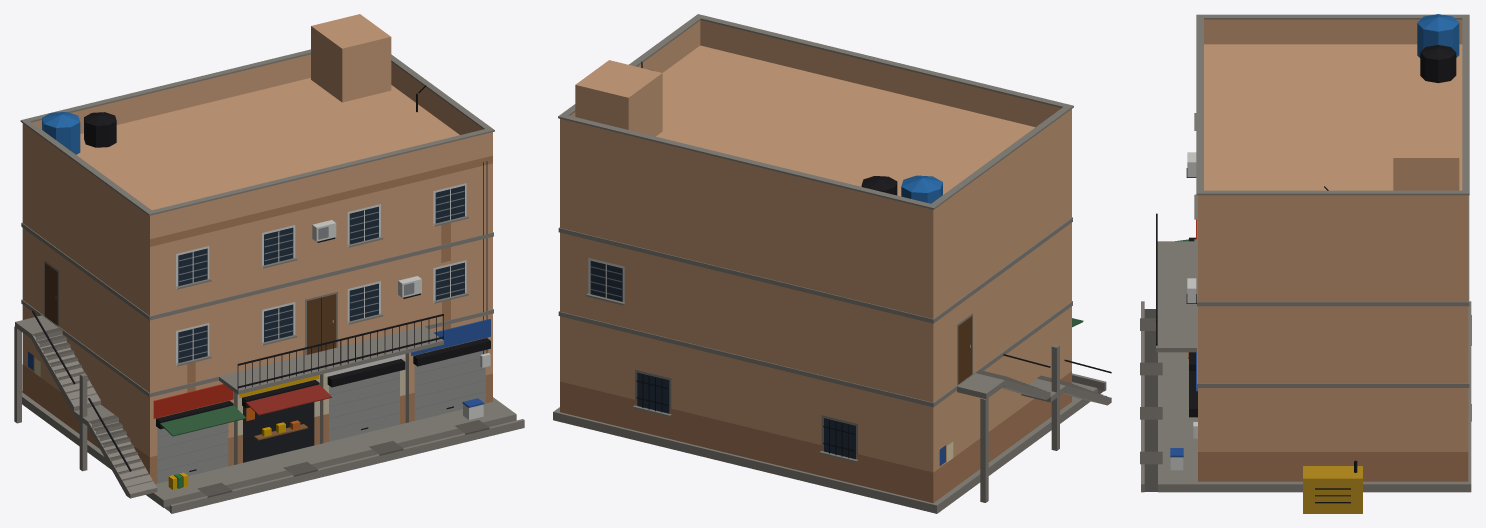
The model's file is building_market-block.e095aad08386.glb.
3 renders of one model, left to right at view 1: azimuth 30°, elevation 25°; view 2: azimuth 150°, elevation 25°; view 3: azimuth 270°, elevation 25°, orthographic. The views are drawn at different scales.
Visible parts, largest first — view 1: body; view 2: body; view 3: body.
Boxes of the visible parts, x1,y1,x2,y2 form: body: (14, 14, 524, 513); body: (553, 14, 1111, 513); body: (1140, 14, 1471, 513).
Size of the model in its own units: 17.05 by 12 by 11.04.
